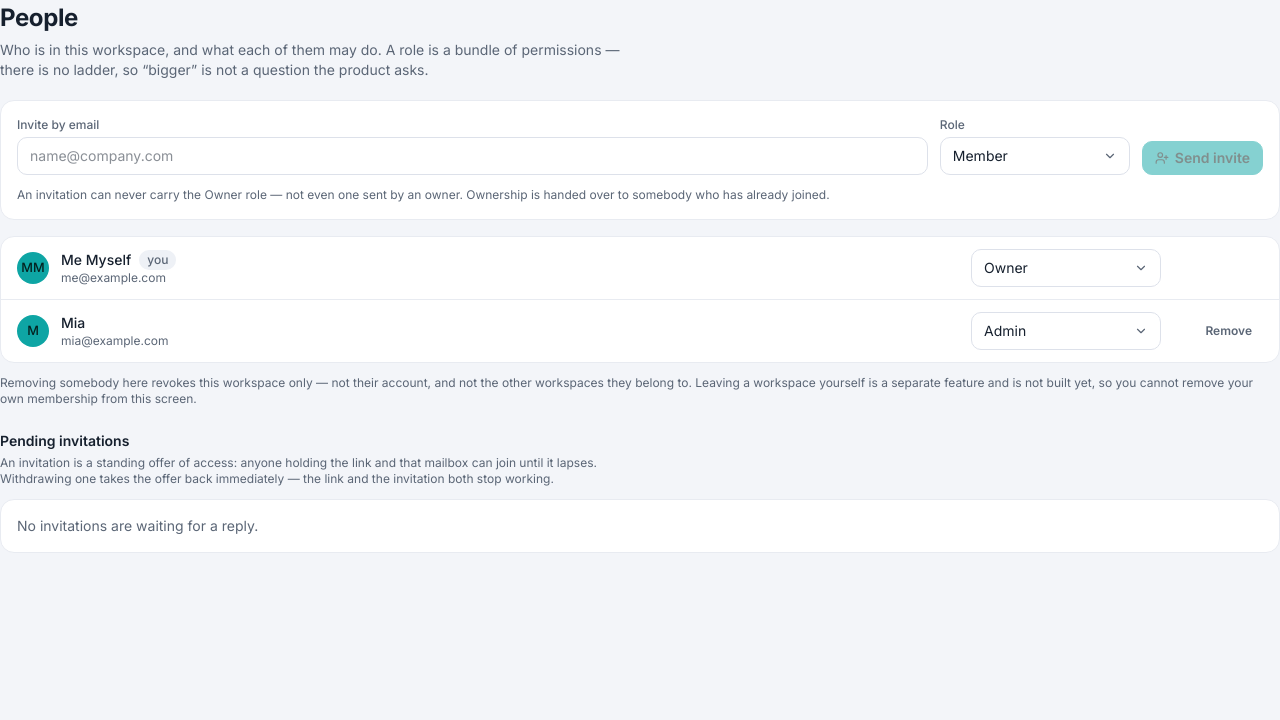
WorkspacePeoplePage — removal, and the three refusals › STRANDED_PROJECTS: names the projects, then adopts them on an explicit consent
Expected: the text "Mia" is shown, [61,313,85,333]
What coordinates should you click on to do the following:
click the button "Remove"
I would click on:
 (1229, 331)
Its box is [1194,318,1263,344].
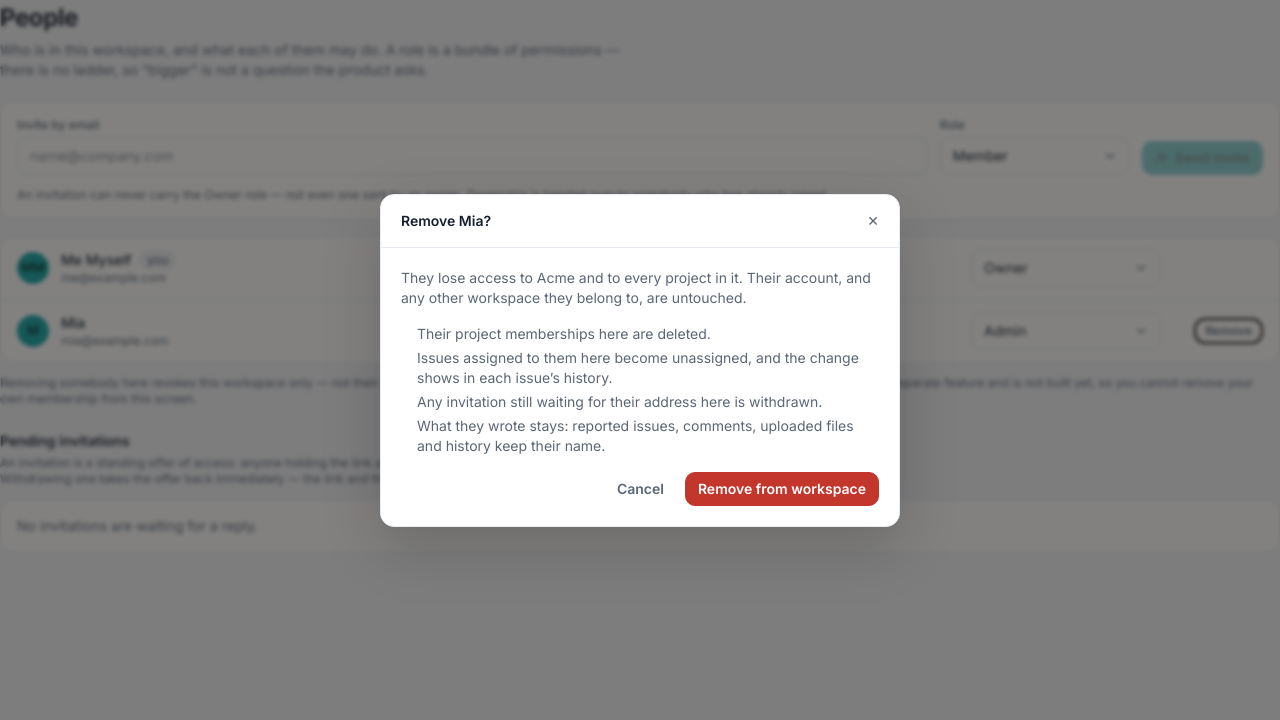
Result: the button "Remove from workspace" is shown
What coordinates should you click on to do the following:
click the button "Remove from workspace"
I would click on:
 (782, 488)
Its box is [685,472,879,506].
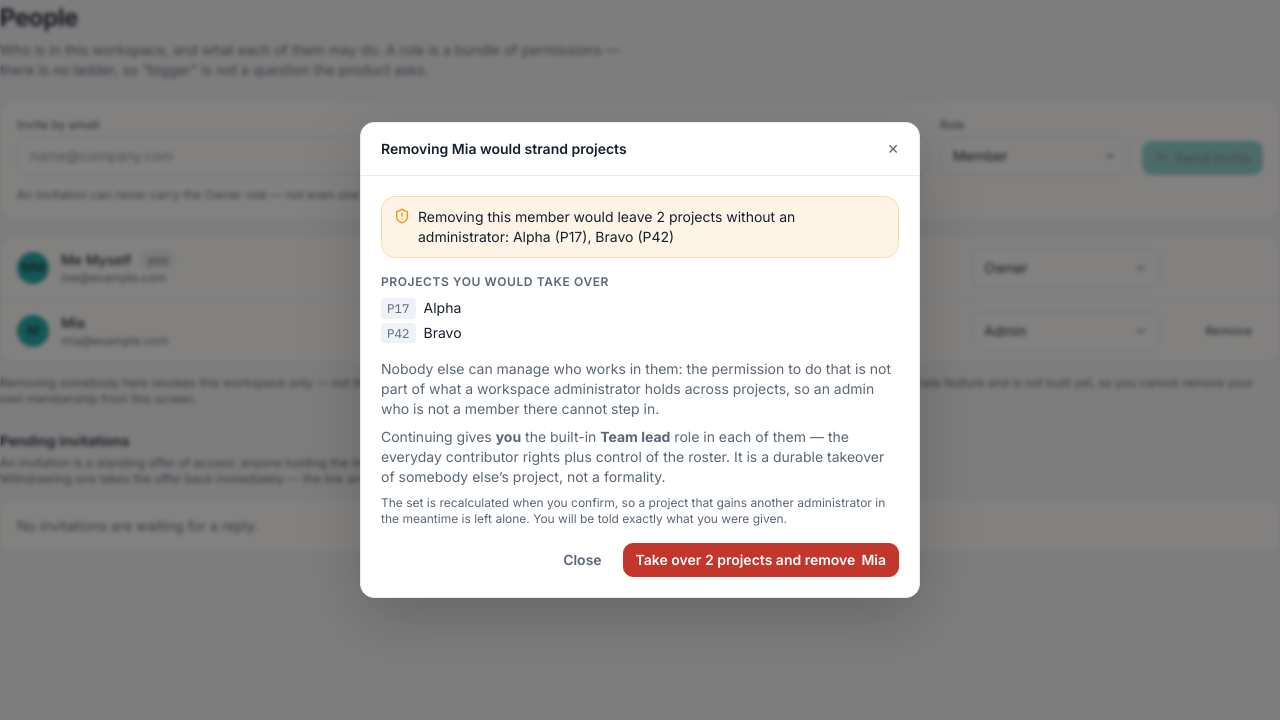
Result: the text "Projects you would take over" is shown at [381,274,609,289]
Result: the text "Alpha" is shown at [424,298,461,318]
Result: the text "Bravo" is shown at [424,323,462,343]
What coordinates should you click on to do the following:
click the button "Take over 2 projects and remove Mia"
I would click on:
 (761, 560)
Its box is [623,543,899,577].
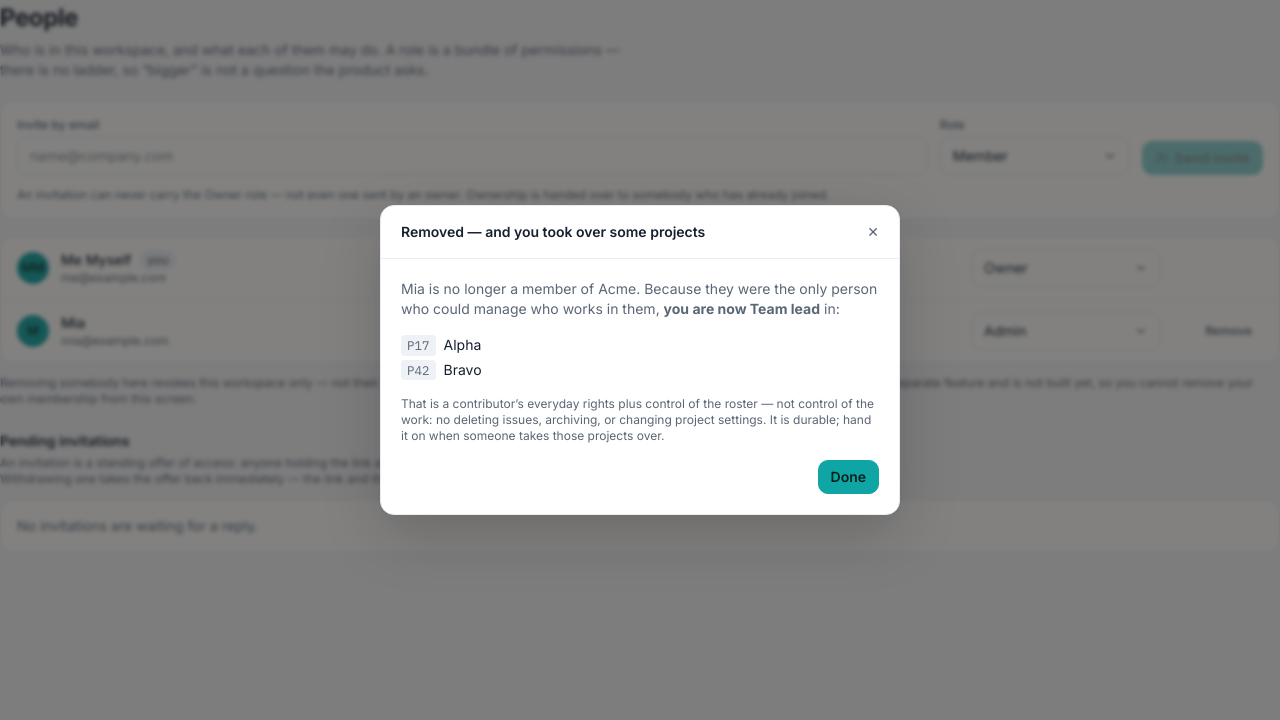
Result: the text "you are now Team lead" is shown at [664,300,820,317]
Result: the button "Done" is shown at [818,460,879,494]
